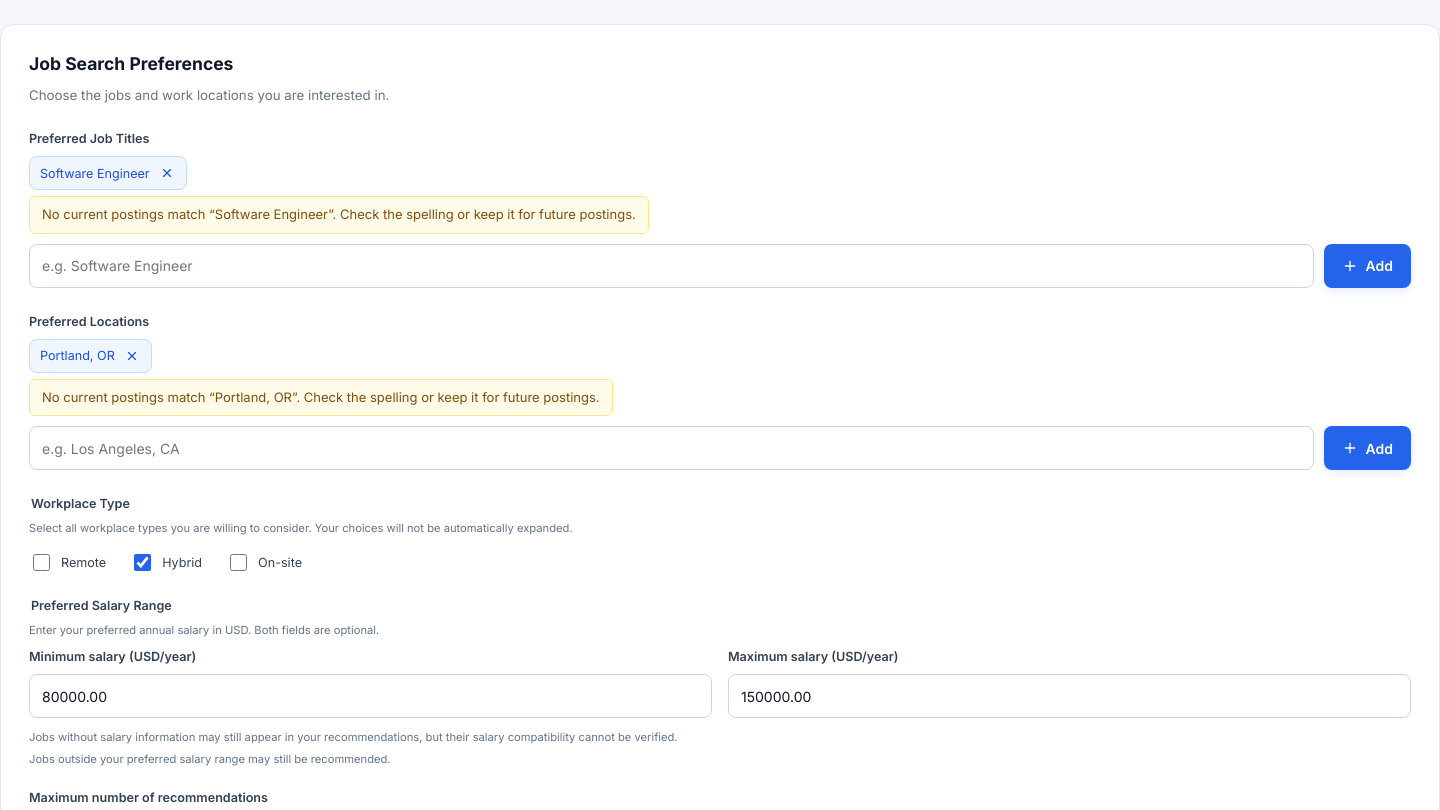
SearchPreferencesForm (JH-021) › rejects duplicate job titles
This screenshot has width=1440, height=810.
Expected: the text "Software Engineer" is shown, [29,156,187,190]
Type "software engineer" into the field labelled "Preferred Job Titles". click: {"x": 671, "y": 266}
box: [29,244,1314,288]
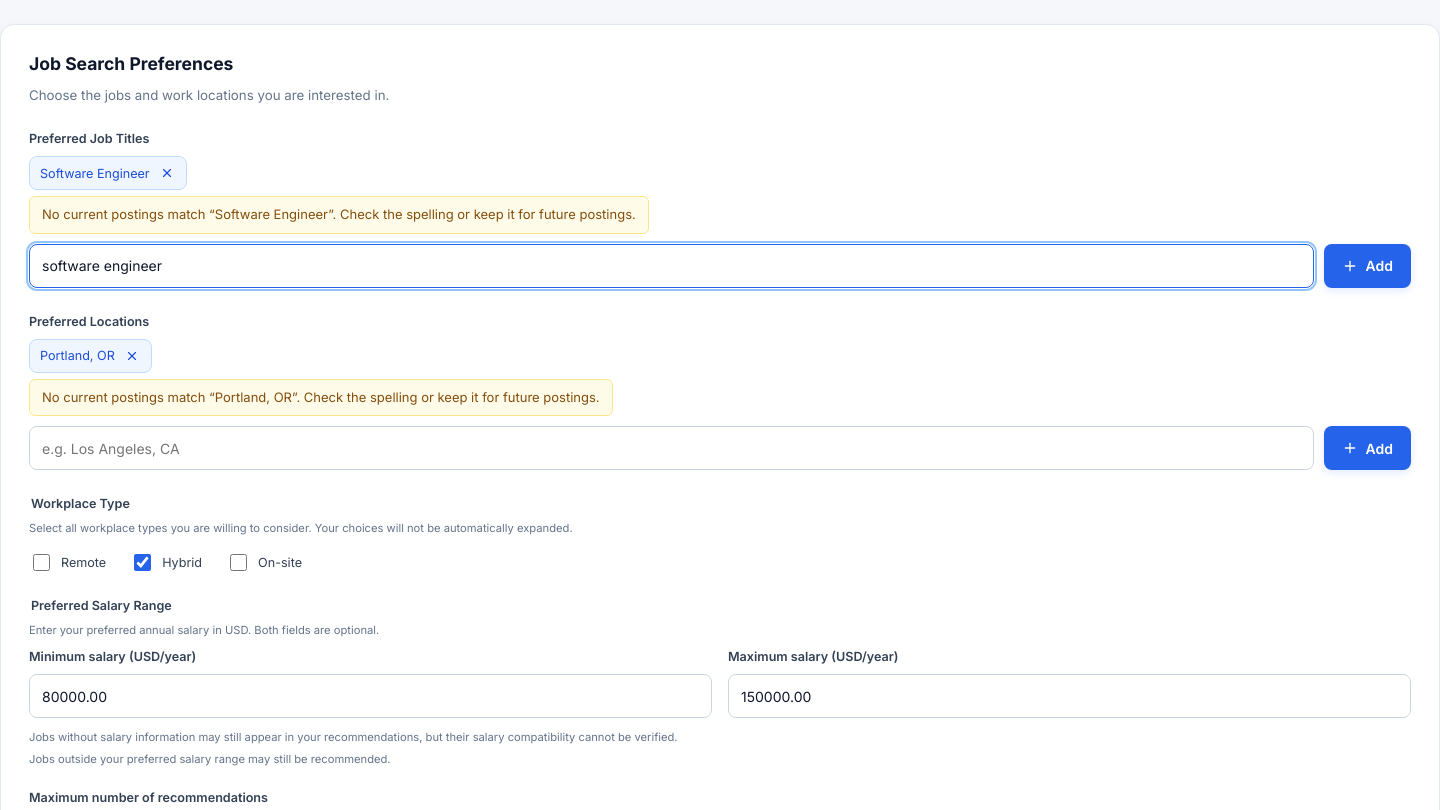
Click the 1st button "Add". click: {"x": 1367, "y": 266}
box: [1324,244,1411,288]
(page scrolled)
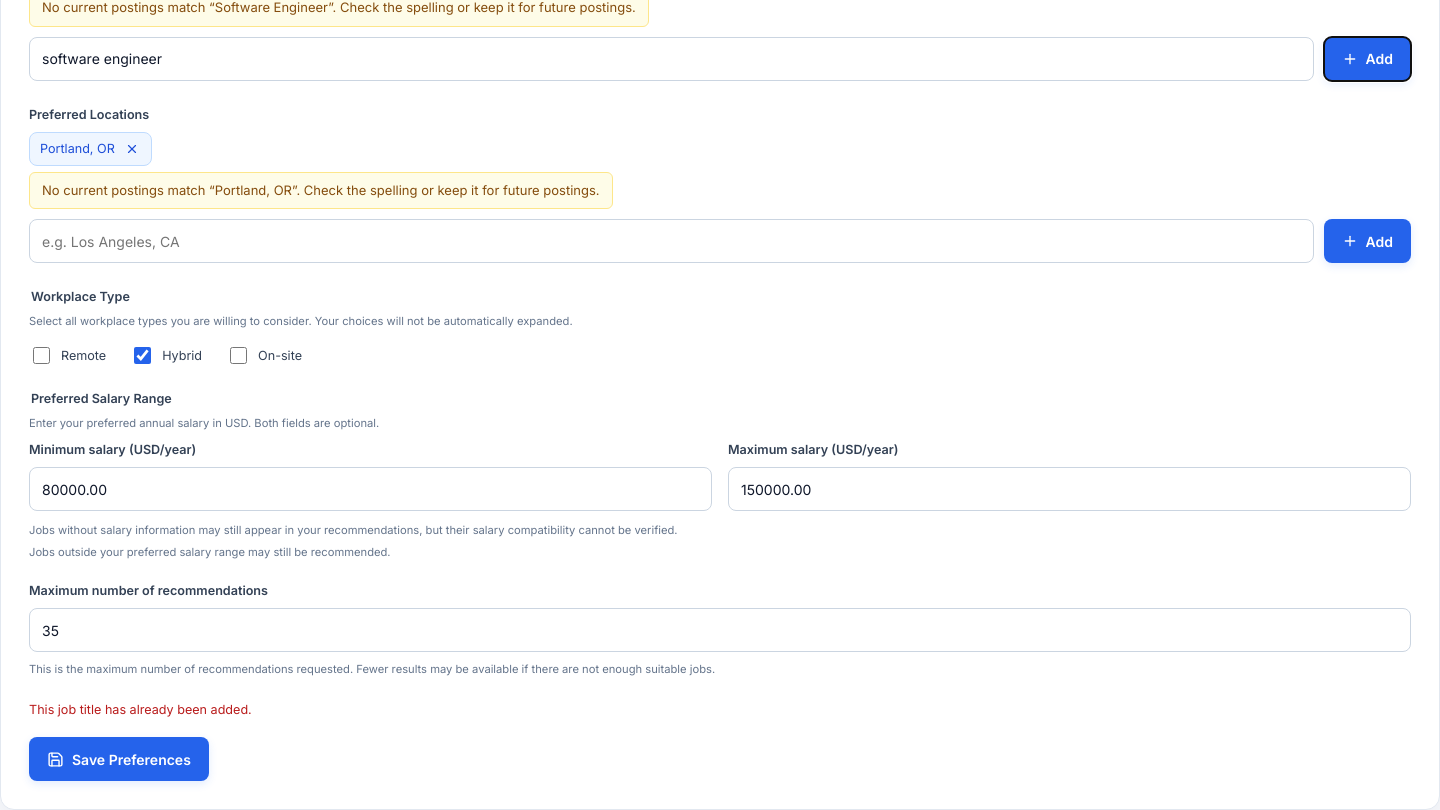
Now the message "This job title has already been added." is shown, box [29,702,252,717]
